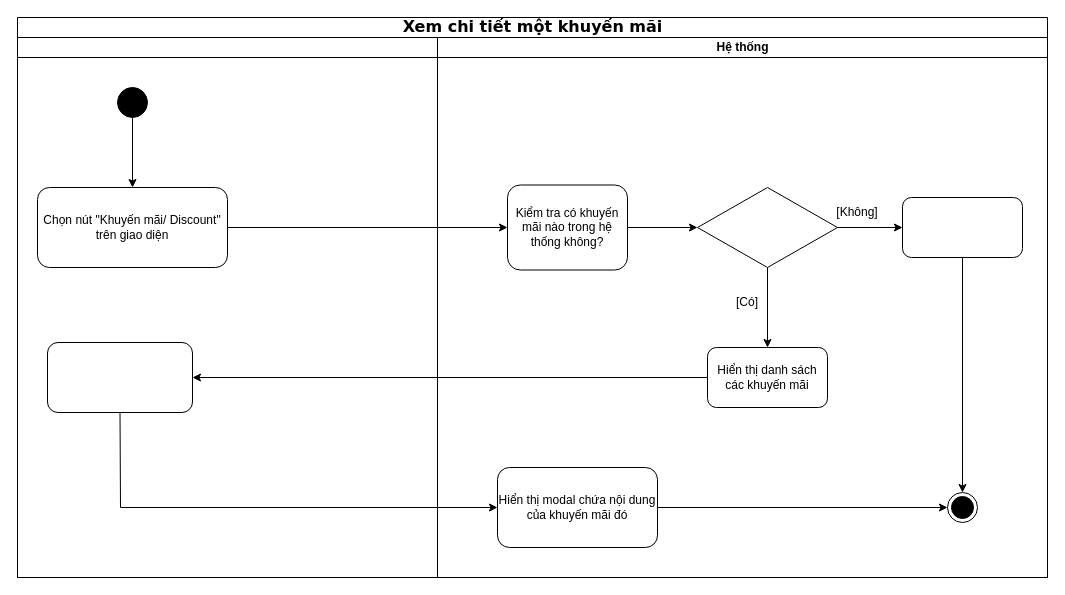
This 1065x595 diagram has some shape labels left out. The shapes that lost their labels are listed below. From the top down, each one's box as (x1, y1, x2, y2) in pixels, then its label:
(902, 196, 1022, 258): Hiển thị thông báo không có khuyến mãi nào hiện tại
(16, 36, 438, 578): Người dùng
(46, 342, 192, 412): Chọn một khuyến mãi trên giao diện
